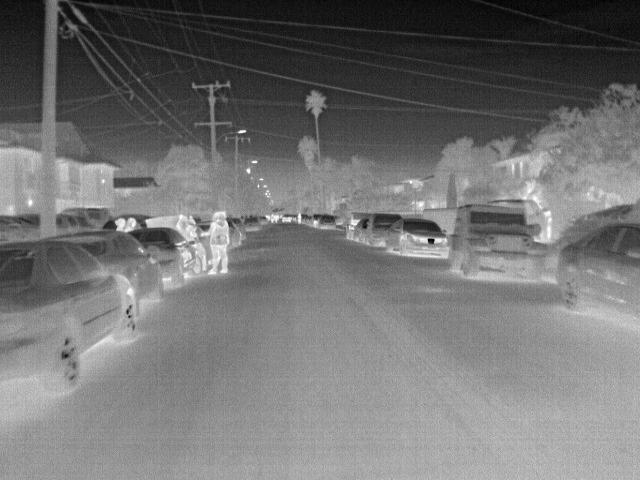car: (1, 237, 145, 398), (38, 230, 166, 310), (556, 222, 639, 326), (450, 203, 548, 282), (134, 228, 203, 287), (385, 216, 450, 256), (366, 214, 400, 246), (345, 212, 369, 239), (352, 219, 369, 242), (317, 214, 338, 230), (242, 218, 262, 234), (282, 213, 293, 223)
person: (204, 210, 232, 274), (185, 212, 209, 273), (542, 207, 556, 243), (123, 218, 139, 234), (114, 218, 129, 232), (296, 212, 303, 226)
